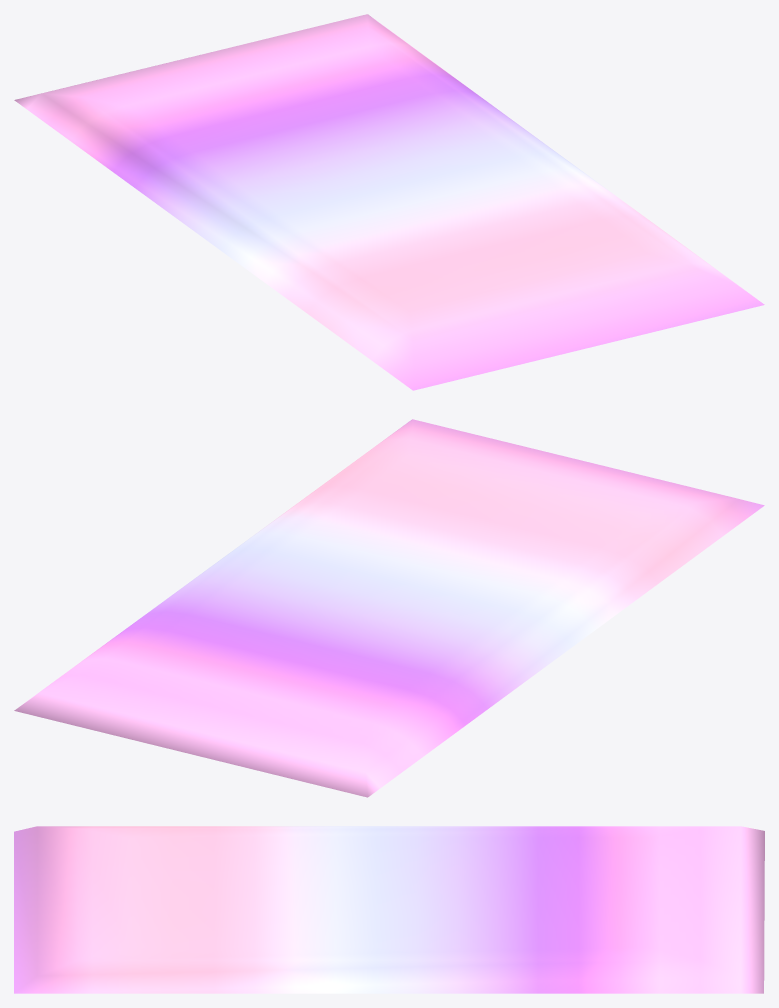
3 renders of one model, top to bottom at view 1: azimuth 30°, elevation 25°; view 2: azimuth 150°, elevation 25°; view 3: azimuth 270°, elevation 25°, orthographic. The views are drawn at different scales.
Parts seen in each view (by area): view 1: YogaMatPink; view 2: YogaMatPink; view 3: YogaMatPink.
Part boxes in pixels (<box>): YogaMatPink: <box>14,14,764,390</box>; YogaMatPink: <box>14,419,764,797</box>; YogaMatPink: <box>14,826,764,993</box>.
Size of what is drawn, in the model's own units: 1.43 by 0.0831 by 2.79.
1 material, 1 textured.
